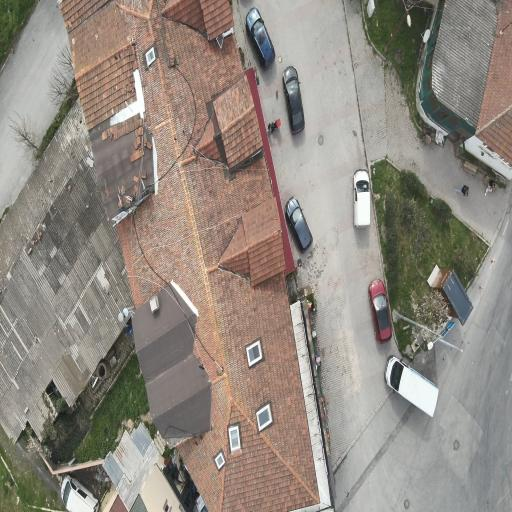car: (385, 356, 438, 417), (246, 8, 275, 68), (285, 197, 312, 252), (283, 66, 304, 133), (369, 280, 391, 343), (62, 476, 98, 511), (354, 170, 370, 226)
person: (455, 185, 468, 196), (486, 180, 495, 195)
